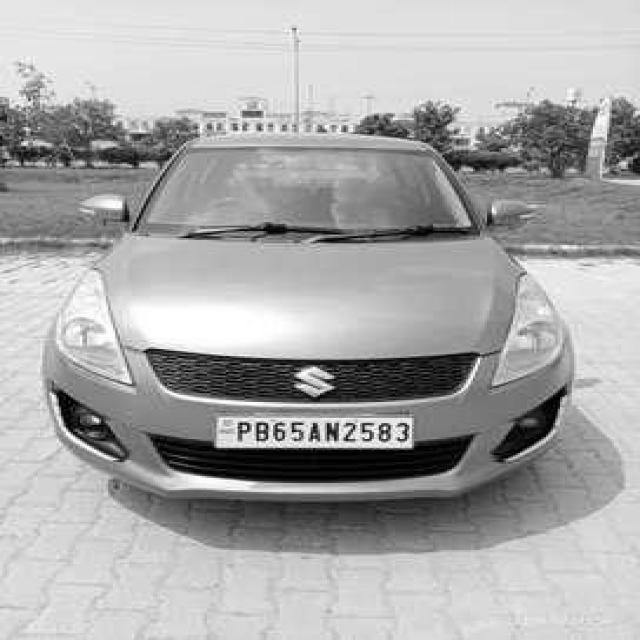car: (40, 116, 586, 513)
license-plate: (216, 418, 419, 451)
